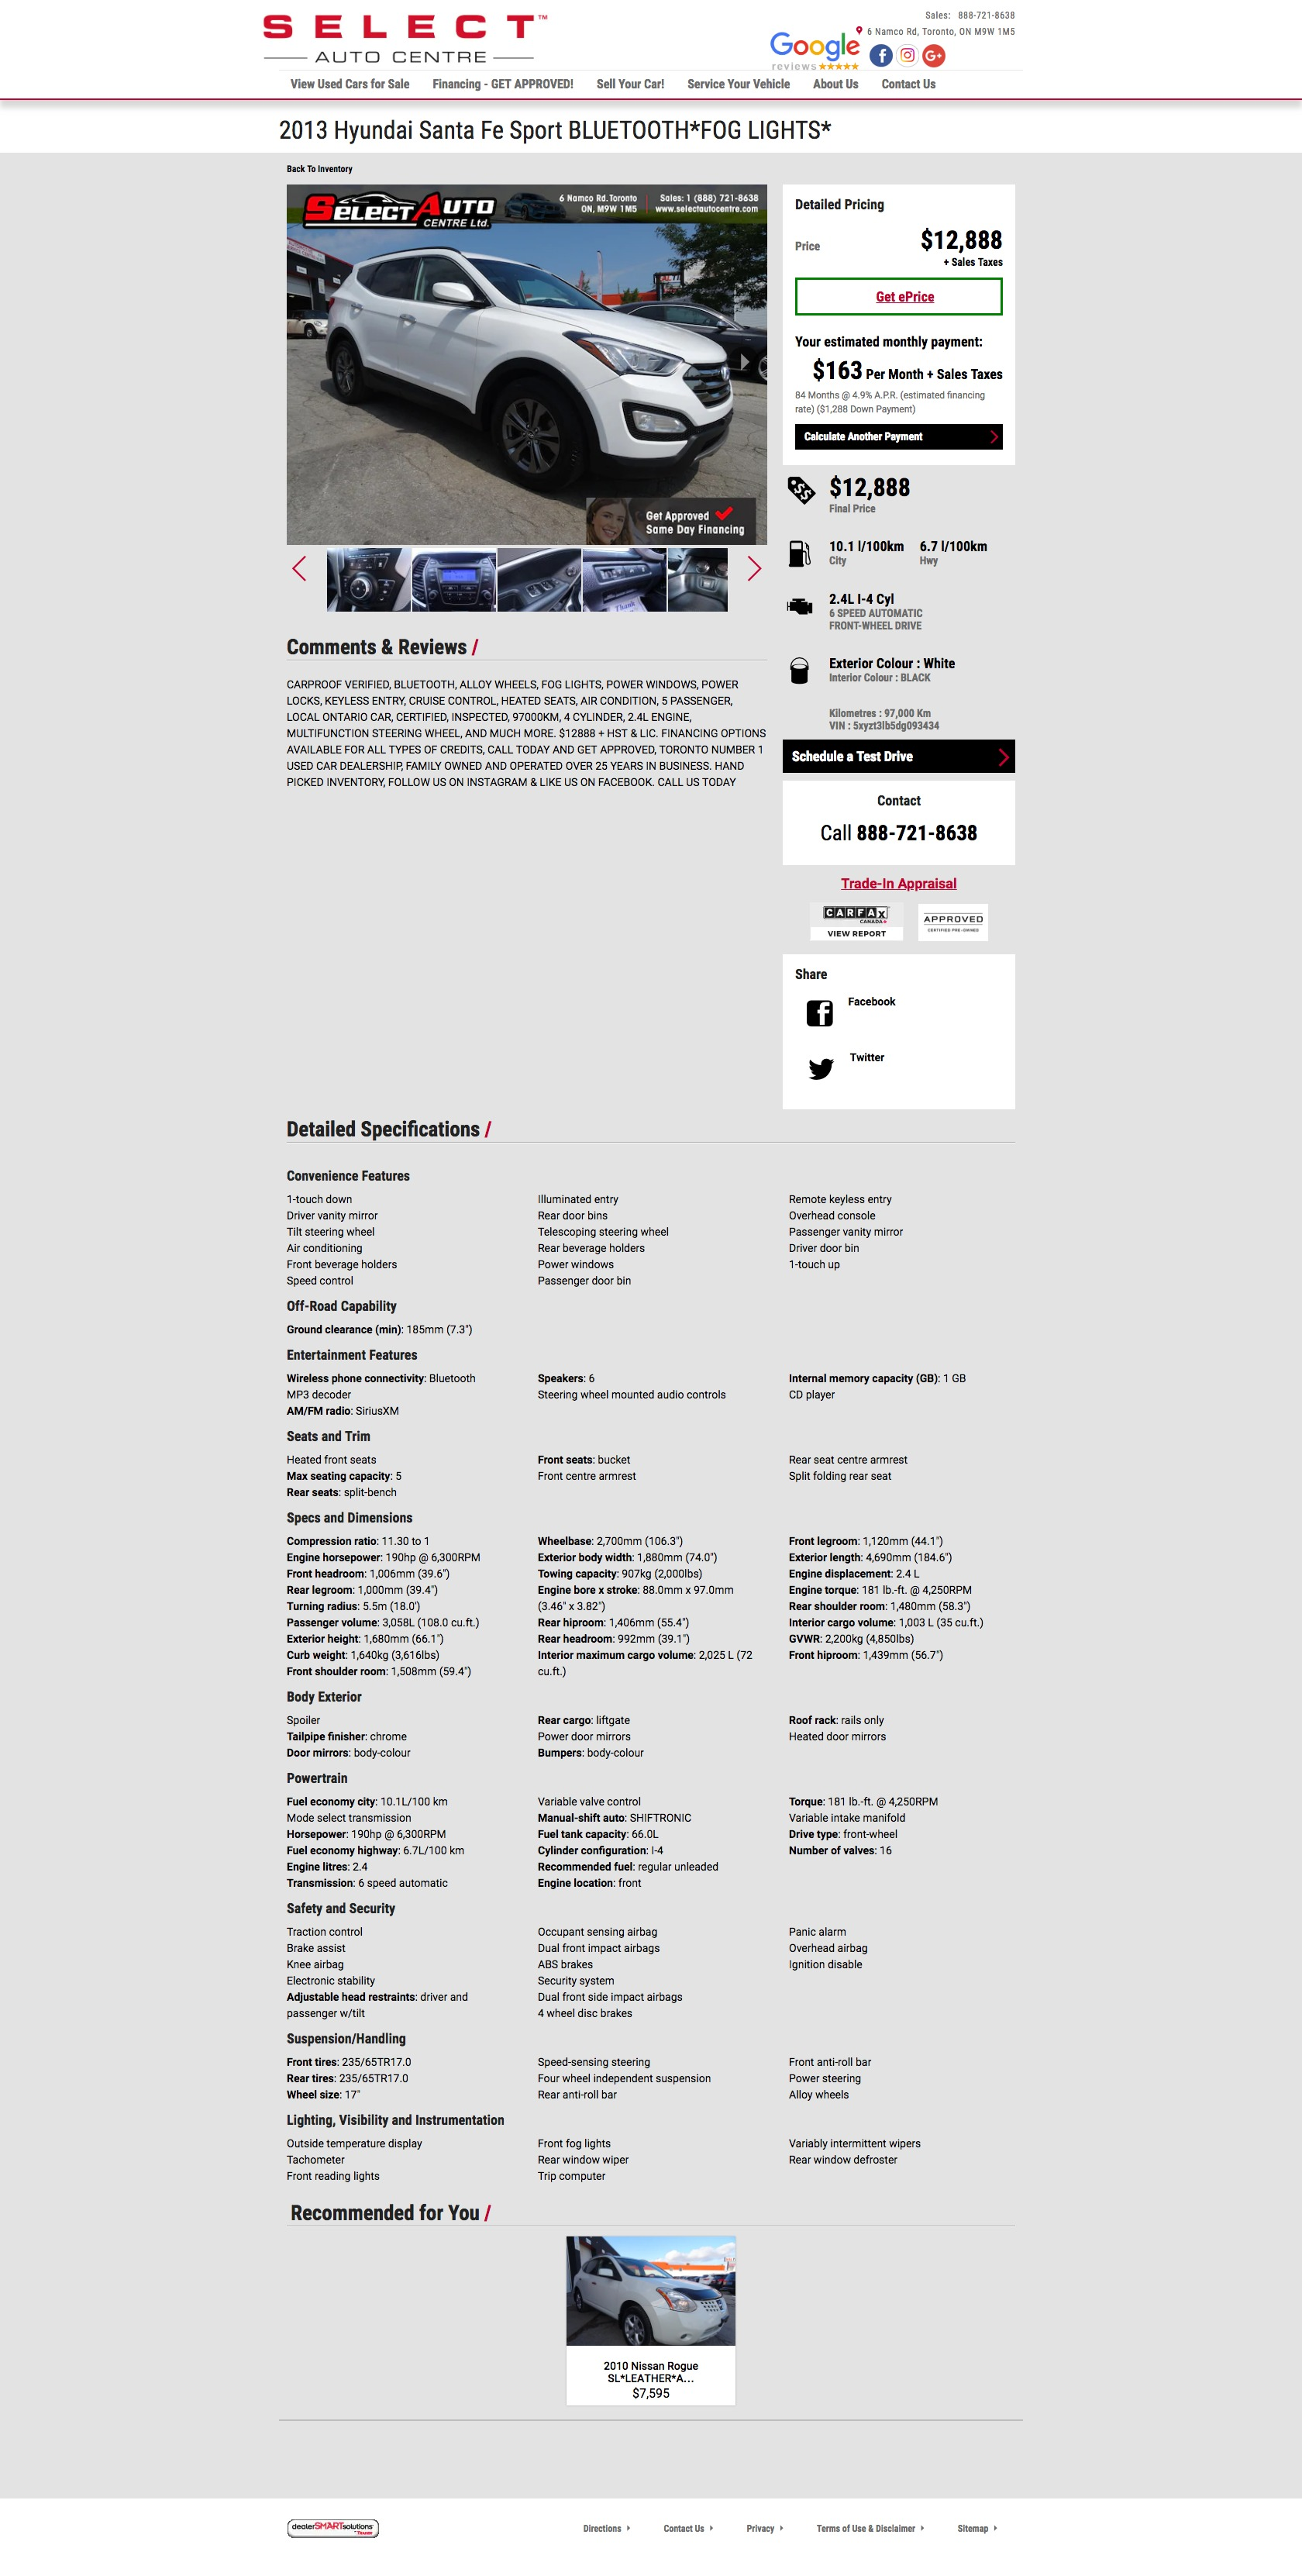car: (746, 555, 766, 583)
